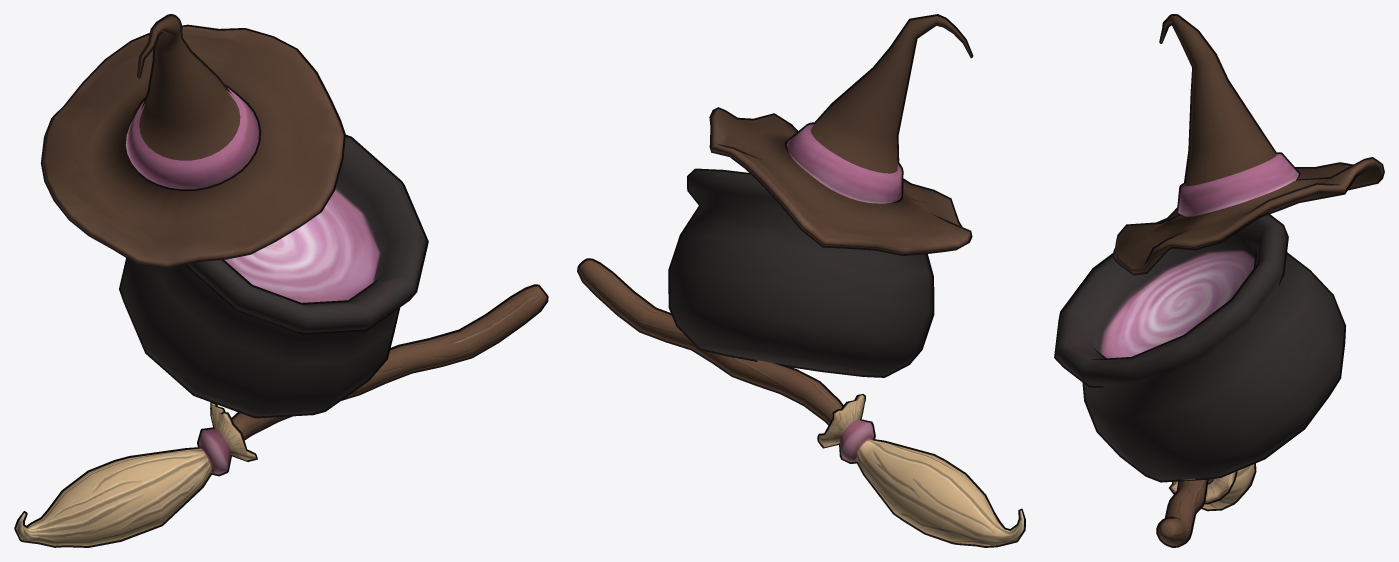
3 views of the same model, side by side, from view 1: azimuth 30°, elevation 25°; view 2: azimuth 150°, elevation 25°; view 3: azimuth 270°, elevation 25° (orthographic). The views are drawn at different scales.
Parts seen in each view (by area): view 1: Hat, Cauldron, Broom; view 2: Cauldron, Hat, Broom; view 3: Cauldron, Hat, Broom.
Part boxes in pixels (x1=…): Hat: x1=40, y1=14, x2=345, y2=268; Cauldron: x1=119, y1=134, x2=428, y2=418; Broom: x1=14, y1=284, x2=548, y2=547; Cauldron: x1=668, y1=168, x2=934, y2=377; Hat: x1=709, y1=14, x2=973, y2=255; Broom: x1=577, y1=258, x2=1025, y2=547; Cauldron: x1=1054, y1=214, x2=1345, y2=482; Hat: x1=1112, y1=14, x2=1384, y2=275; Broom: x1=1156, y1=463, x2=1256, y2=547.
Bounding box in the file's own units: 2.91 × 2.93 × 1.76.
6 materials, 3 textured.
